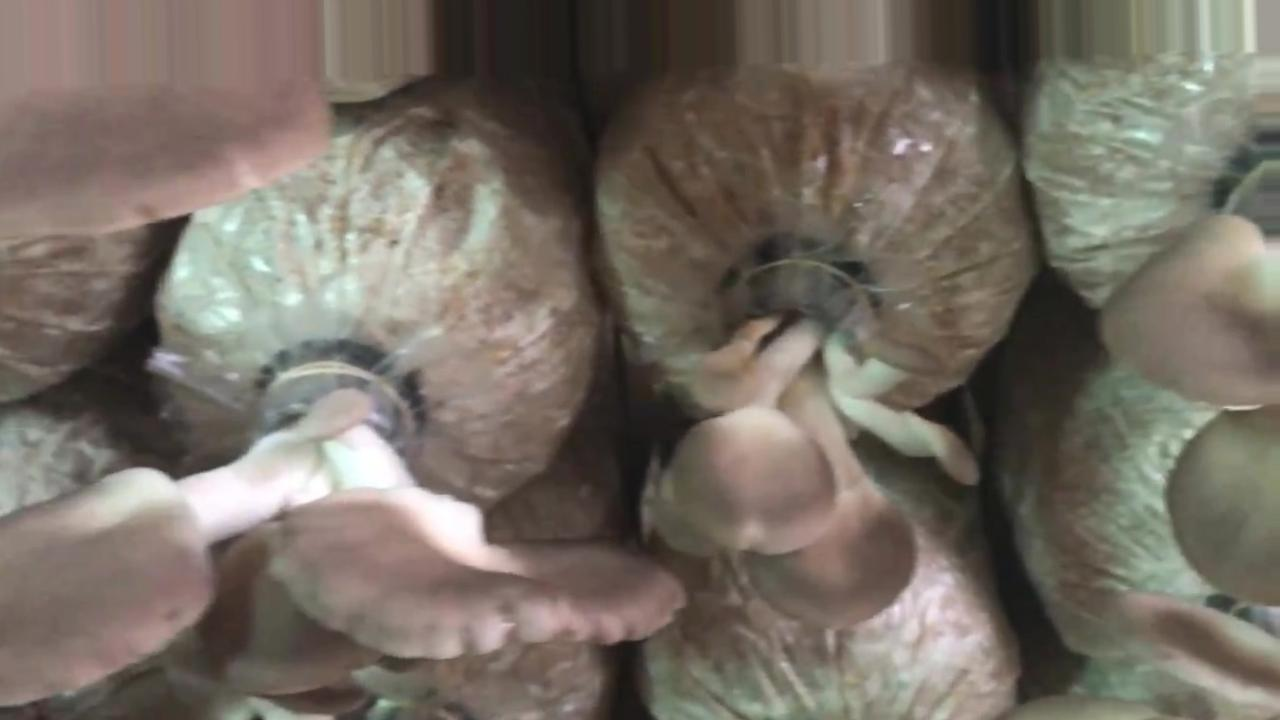nam: (1, 331, 689, 715), (664, 239, 980, 630), (1098, 138, 1280, 608), (1, 74, 323, 248)
